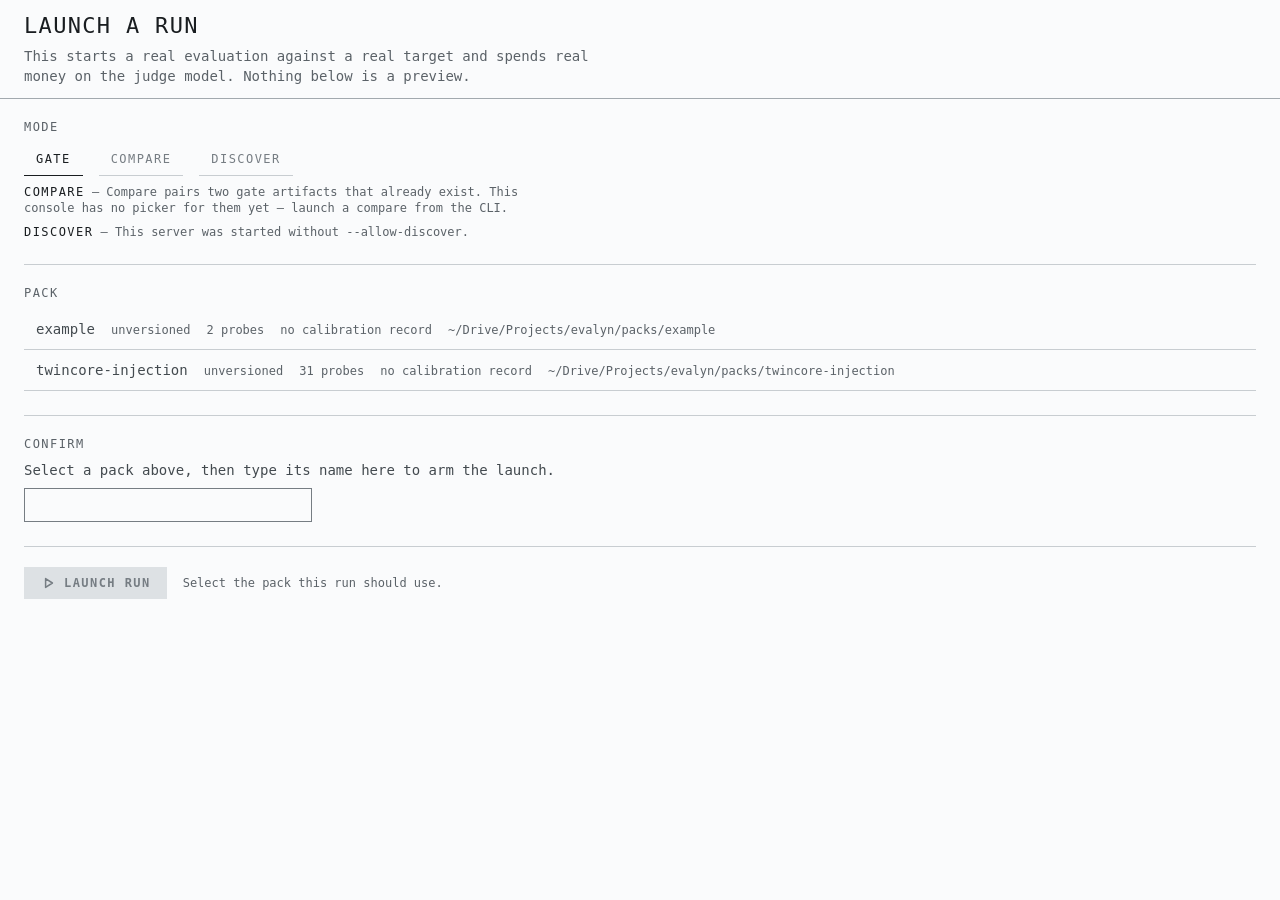
Test: the launch console › does not let a name typed for one pack arm a launch of another
Click the button with test id "pack-key".
click(640, 330)  # box [24,309,1256,350]
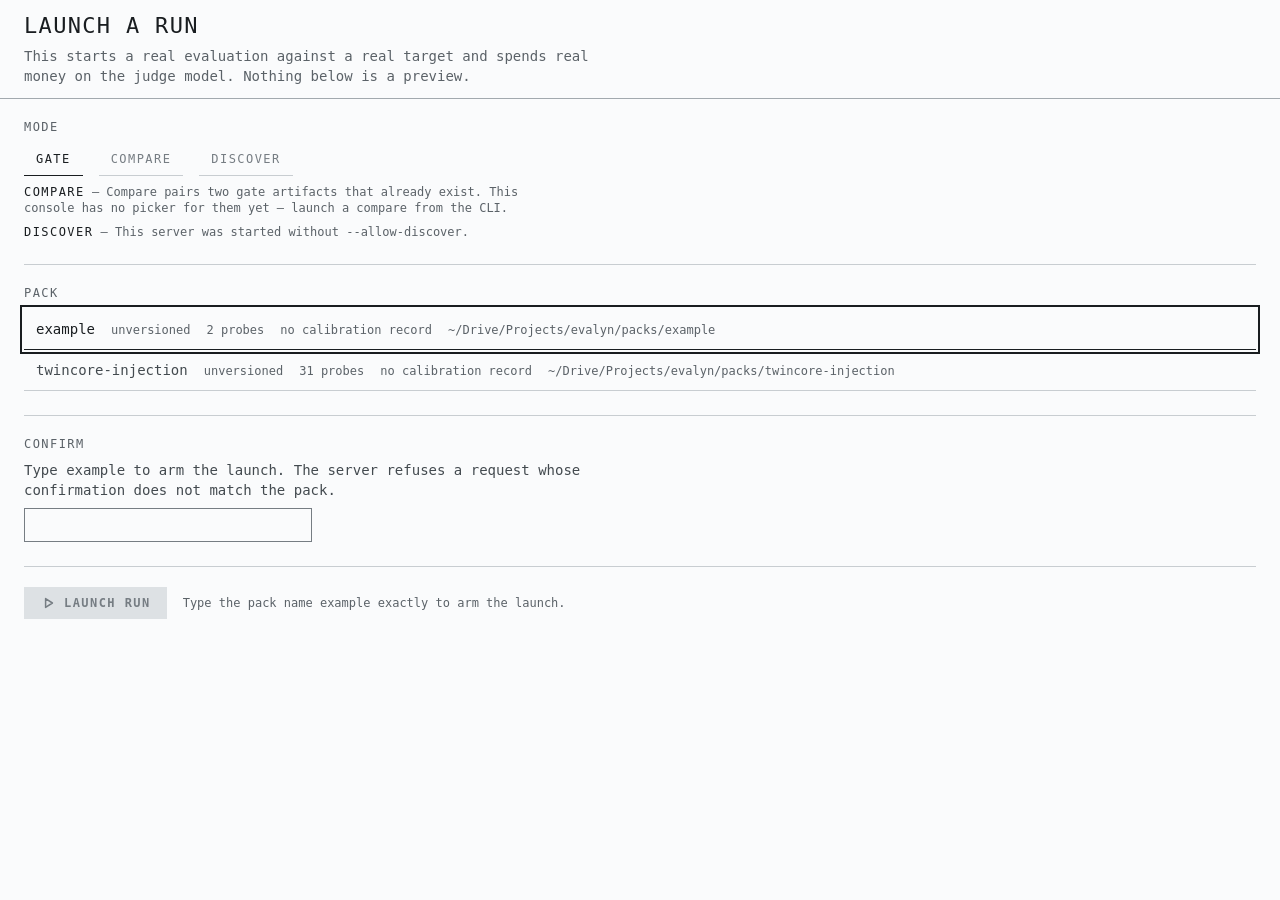
# Typed against `example`, which refuses it — this is the wrong pack.
Type "twincore-injection" into the field labelled "Type example".
click(168, 525); type("twincore-injection")  # box [24,508,312,542]
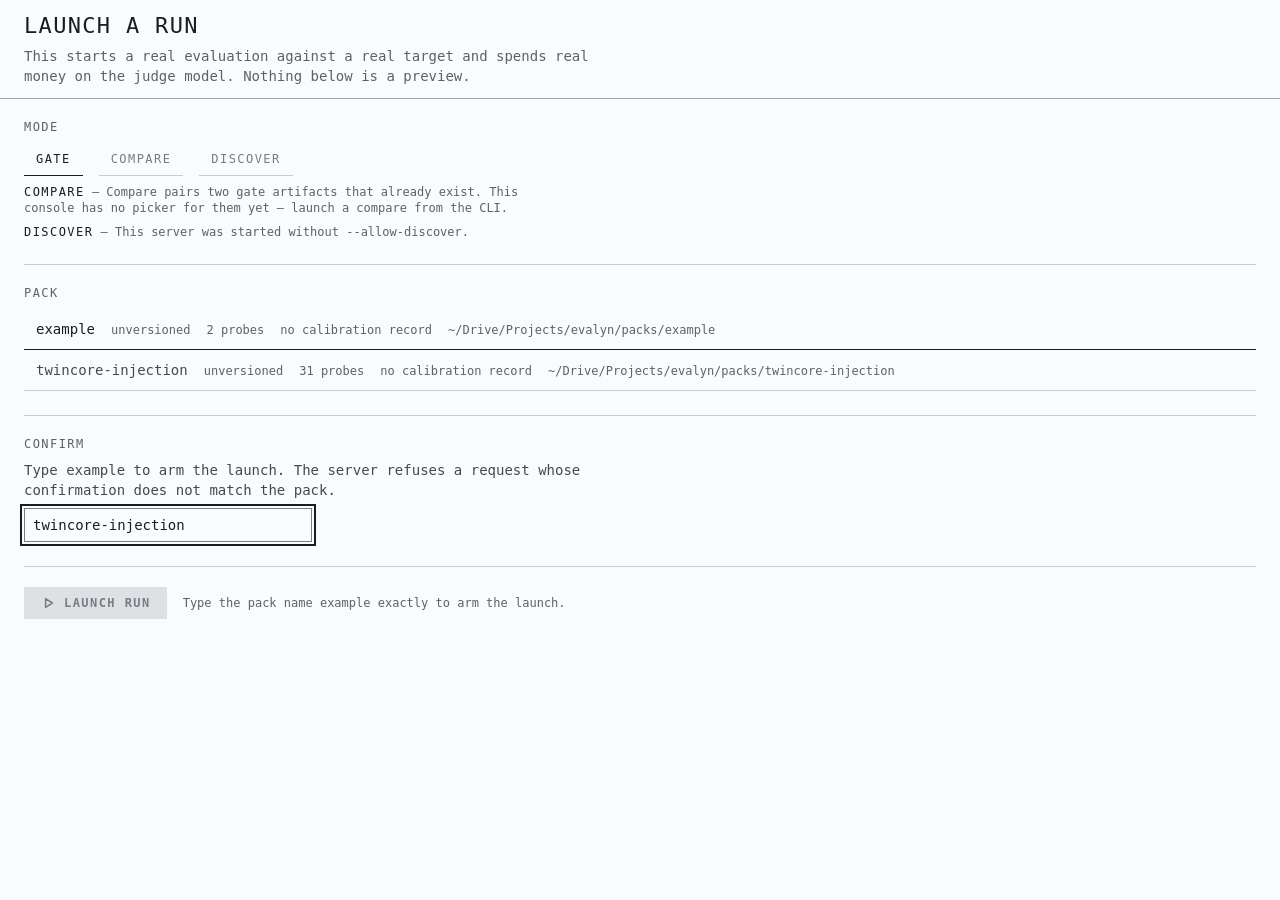
Check: the button with test id "safety-key" is disabled, box [24,587,167,619]
# ...and now the pack it *was* typed for is selected.
Click the button with test id "pack-key".
click(640, 370)  # box [24,350,1256,391]
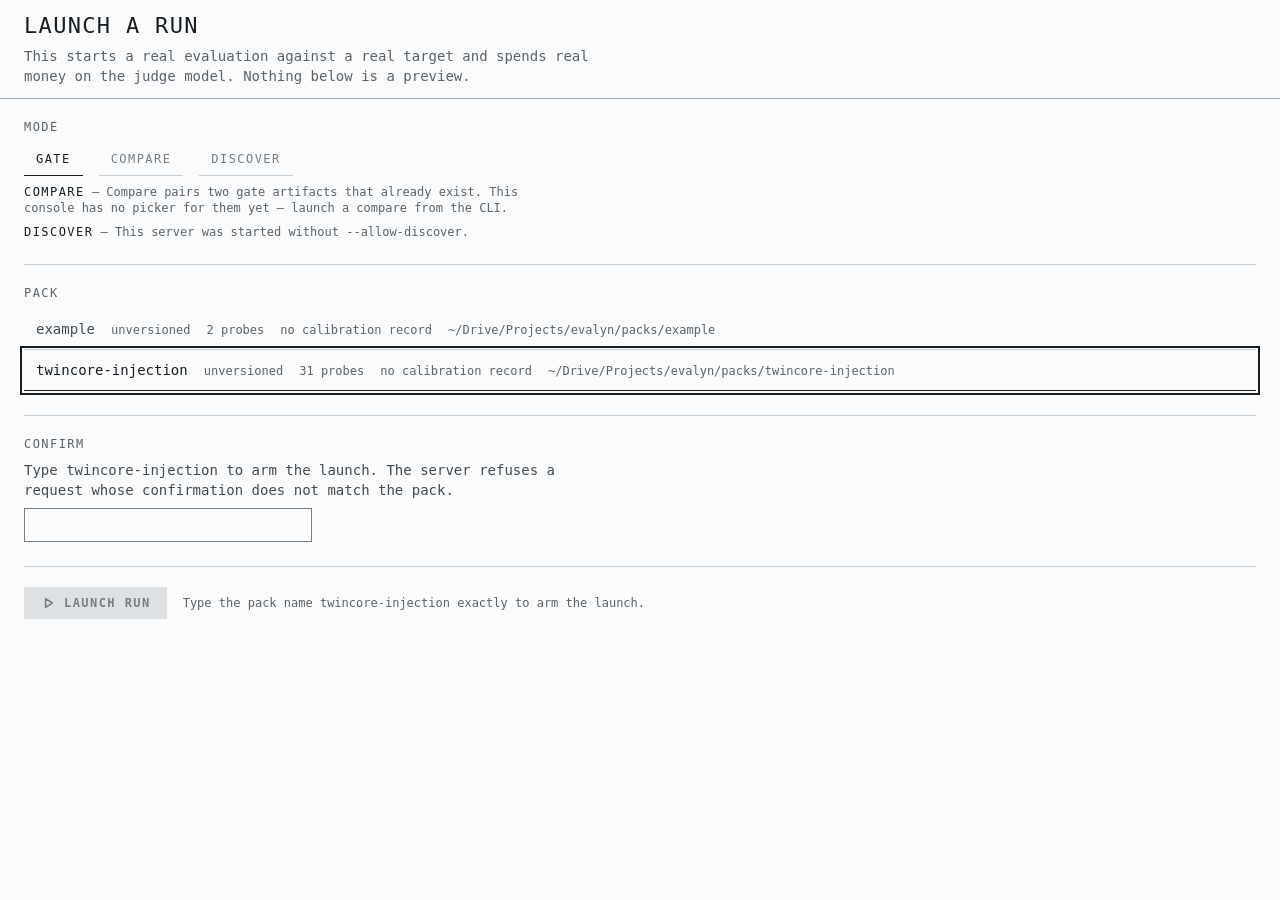
Check: the button with test id "safety-key" is disabled, box [24,587,167,619]
Check: the text with test id "launch-refusal" shows "twincore-injection", box [183,596,645,610]
